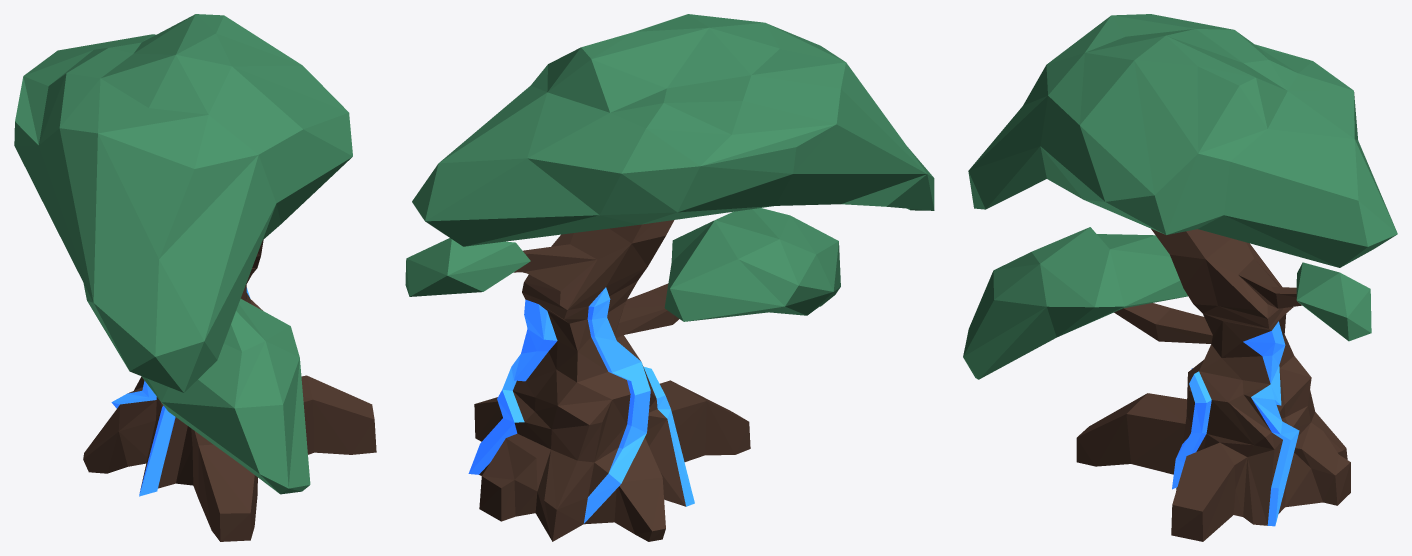
File: Life Tree Sapling.fbx
3 views of the same model, side by side, from view 1: azimuth 30°, elevation 25°; view 2: azimuth 150°, elevation 25°; view 3: azimuth 270°, elevation 25° (orthographic). The views are drawn at different scales.
Parts seen in each view (by area): view 1: Life Tree Spaling; view 2: Life Tree Spaling; view 3: Life Tree Spaling.
Boxes of the visible parts, x1,y1,x2,y2 form: Life Tree Spaling: (14,14,376,541); Life Tree Spaling: (405,14,934,541); Life Tree Spaling: (963,14,1397,541).
Size of the model in its own units: 2.3 by 2.77 by 2.59.
